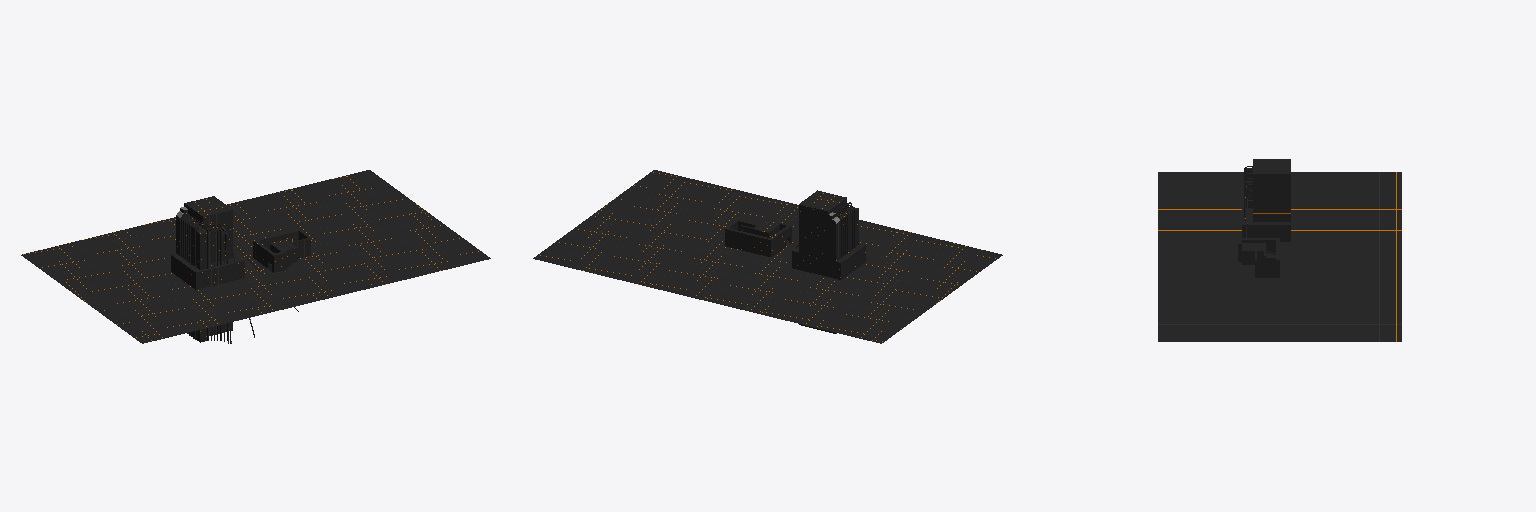
3 renders of one model, left to right at view 1: azimuth 30°, elevation 25°; view 2: azimuth 150°, elevation 25°; view 3: azimuth 270°, elevation 25°, orthographic.
Parts seen in each view (by area): view 1: mesh_361, mesh_51, mesh_362, mesh_1232, mesh_151; view 2: mesh_361, mesh_51, mesh_362, mesh_1317, mesh_50; view 3: mesh_361, mesh_51, mesh_362.
Part boxes in pixels (left/top/right/bottom): mesh_361: left=21, top=170, right=490, bottom=343; mesh_51: left=184, top=196, right=232, bottom=335; mesh_362: left=171, top=252, right=244, bottom=289; mesh_1232: left=182, top=214, right=298, bottom=343; mesh_151: left=194, top=228, right=206, bottom=342; mesh_361: left=533, top=170, right=1002, bottom=343; mesh_51: left=799, top=190, right=846, bottom=331; mesh_362: left=792, top=243, right=865, bottom=279; mesh_1317: left=727, top=228, right=768, bottom=256; mesh_50: left=828, top=210, right=851, bottom=333; mesh_361: left=1158, top=172, right=1401, bottom=341; mesh_51: left=1253, top=159, right=1290, bottom=221; mesh_362: left=1242, top=201, right=1290, bottom=241.
Bounding box in the file's own units: 1379 × 488 × 832.
Materials: 4 (1 with a texture image).